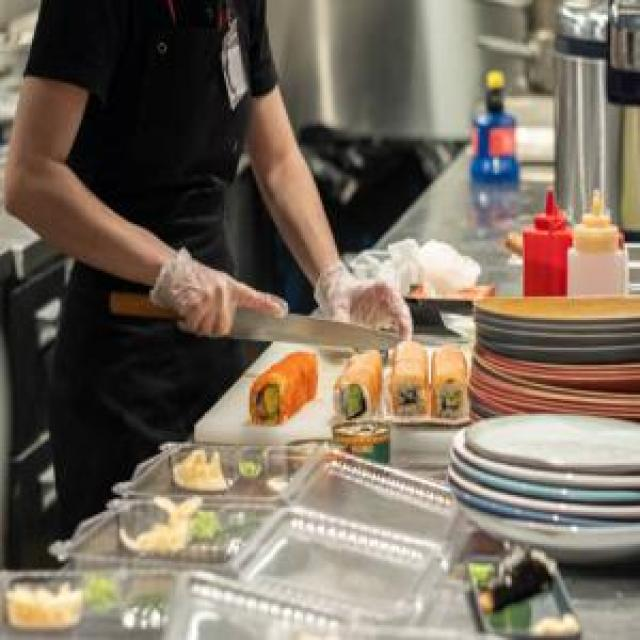knife: (107, 269, 430, 355)
